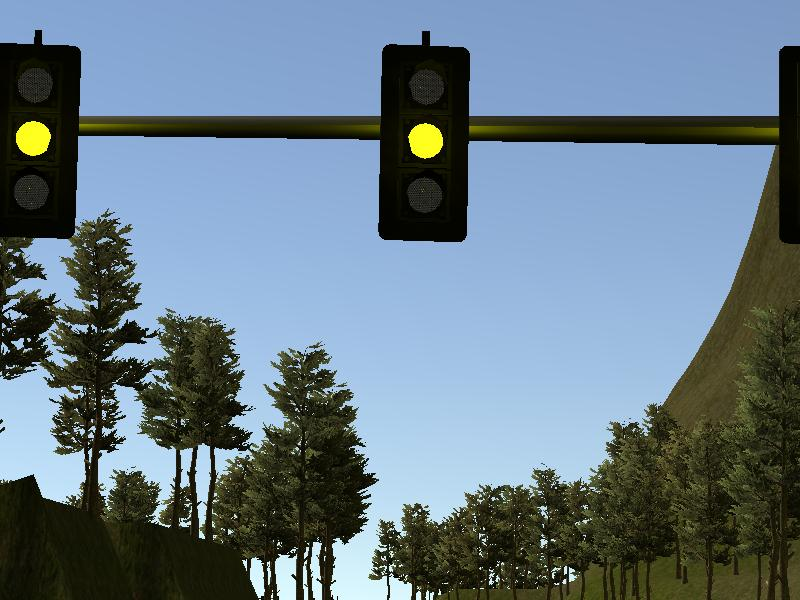Yellow: (380, 45, 467, 242), (1, 44, 81, 237)
